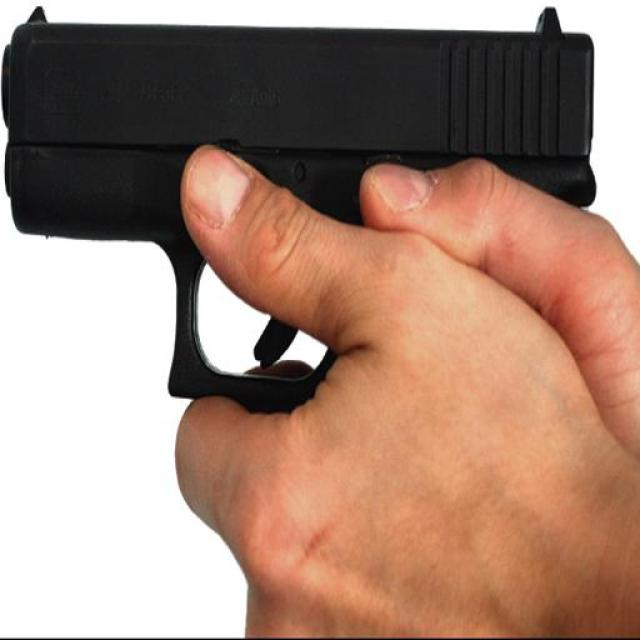pistol: (1, 4, 597, 426)
